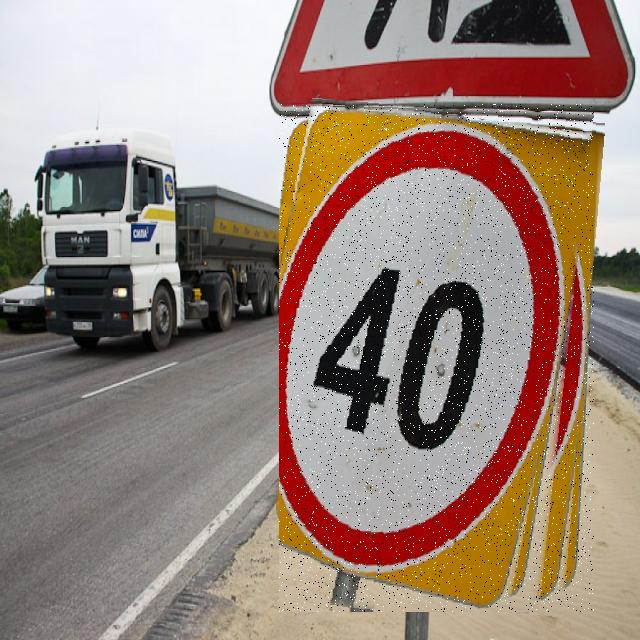speed limit 40: (279, 104, 594, 612)
